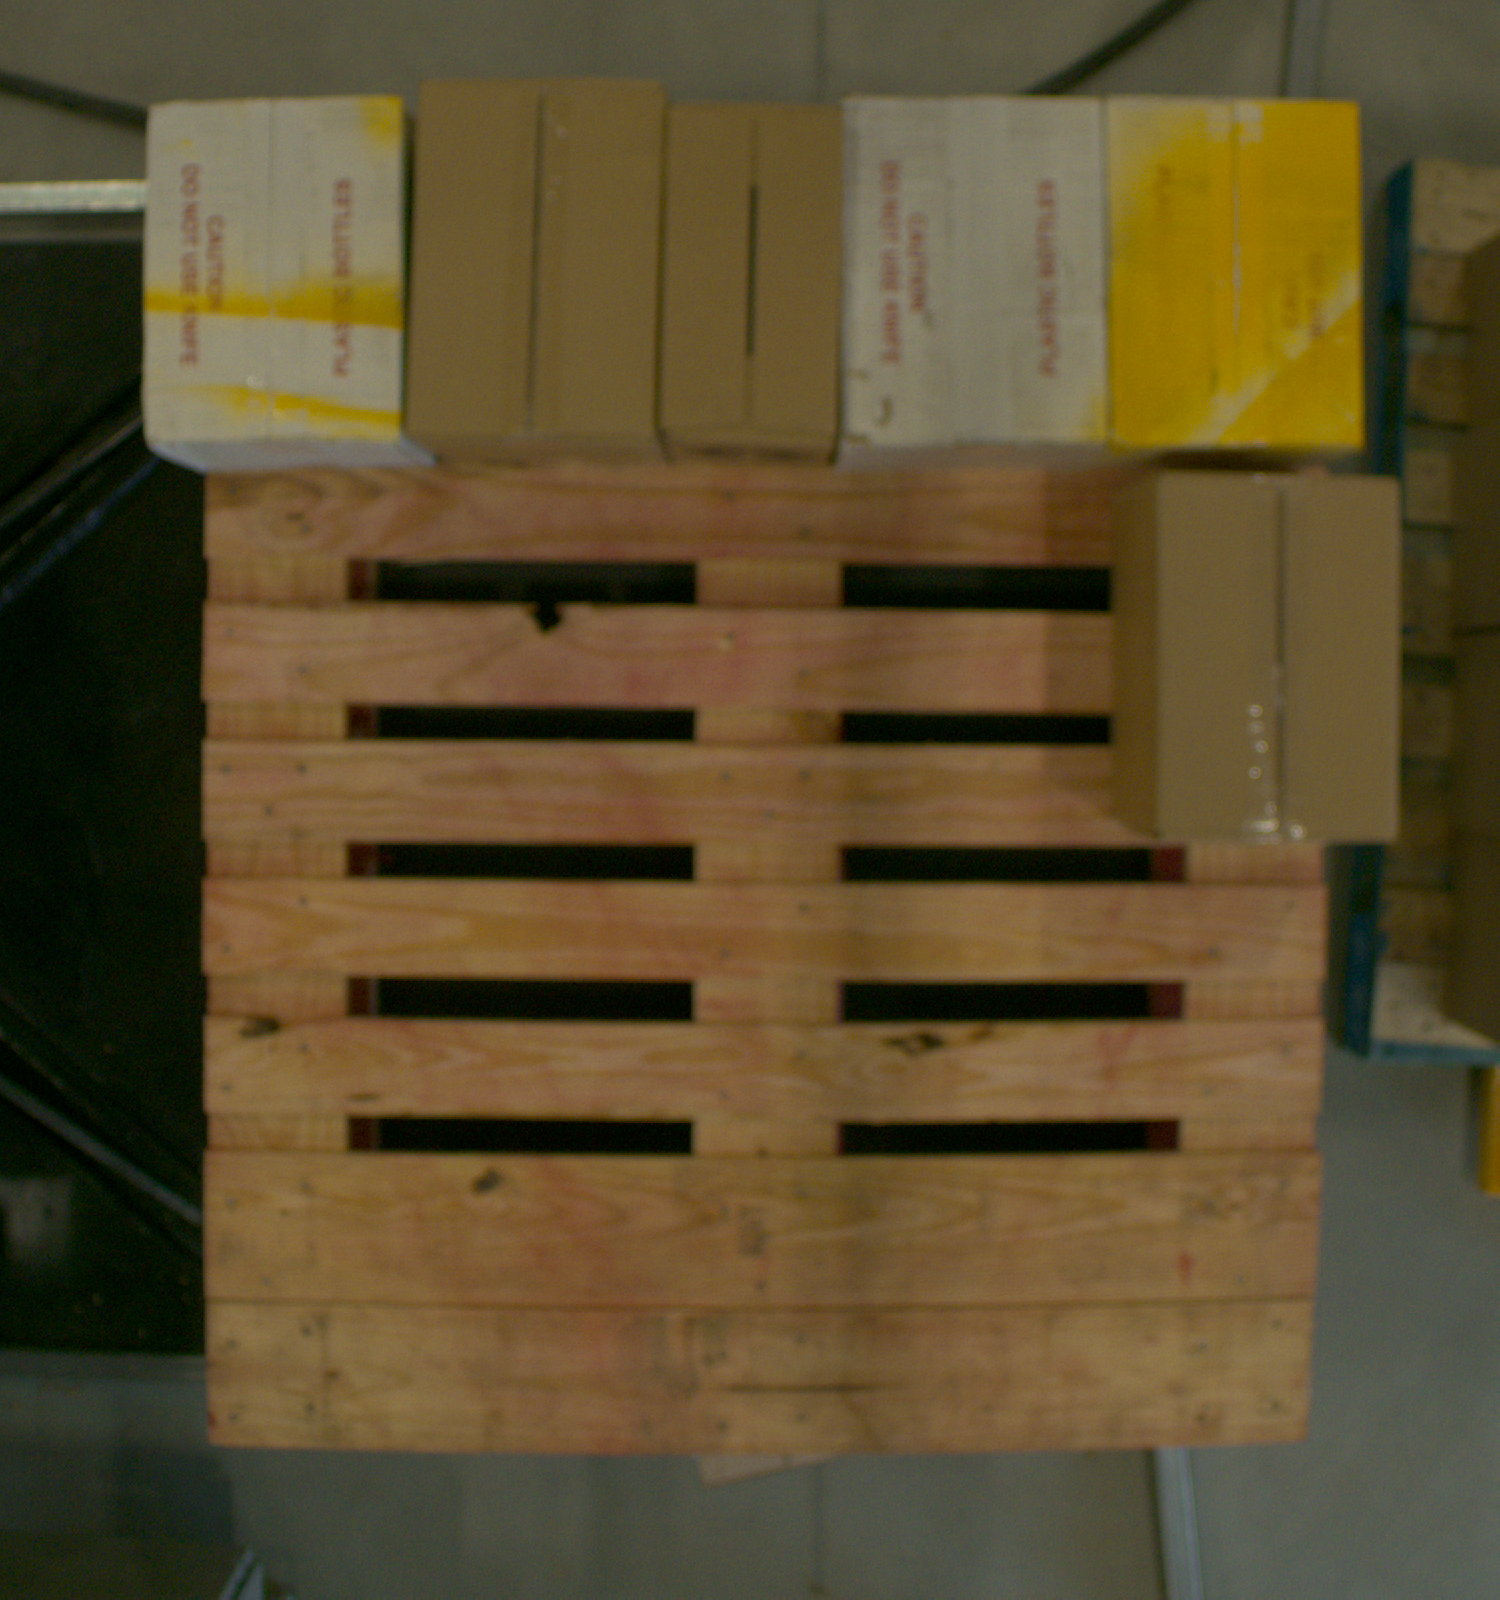box top: (407, 78, 663, 443), (140, 100, 399, 448), (852, 97, 1109, 447), (1112, 99, 1367, 450), (1162, 475, 1398, 843), (661, 103, 844, 443)
